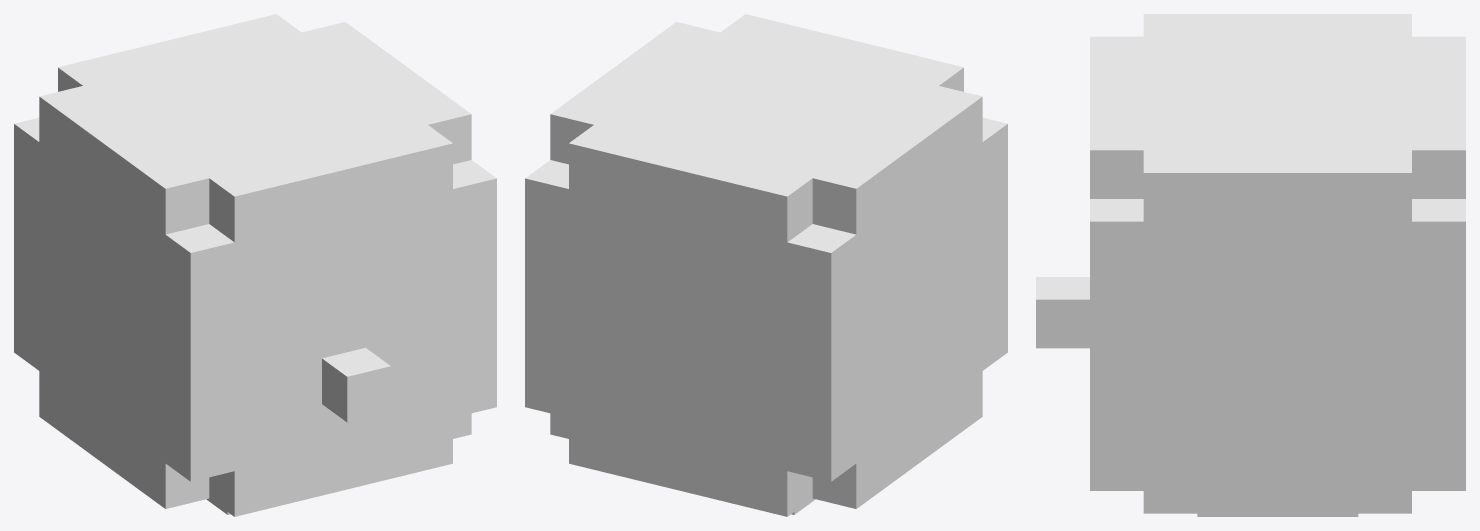
The model's file is main_model-2.obj.
3 renders of one model, left to right at view 1: azimuth 30°, elevation 25°; view 2: azimuth 150°, elevation 25°; view 3: azimuth 270°, elevation 25°, orthographic. The views are drawn at different scales.
Bounding box in the file's own units: 0.7 × 0.8 × 0.8.
1 material, 1 textured.
